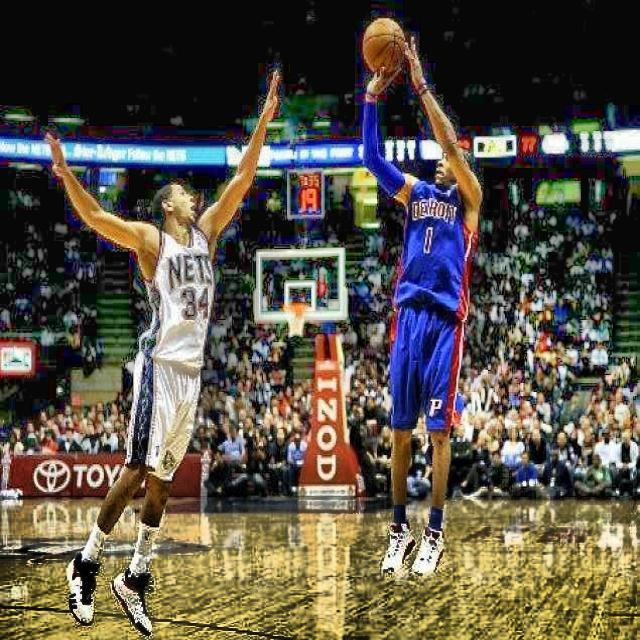board: (363, 17, 406, 73)
